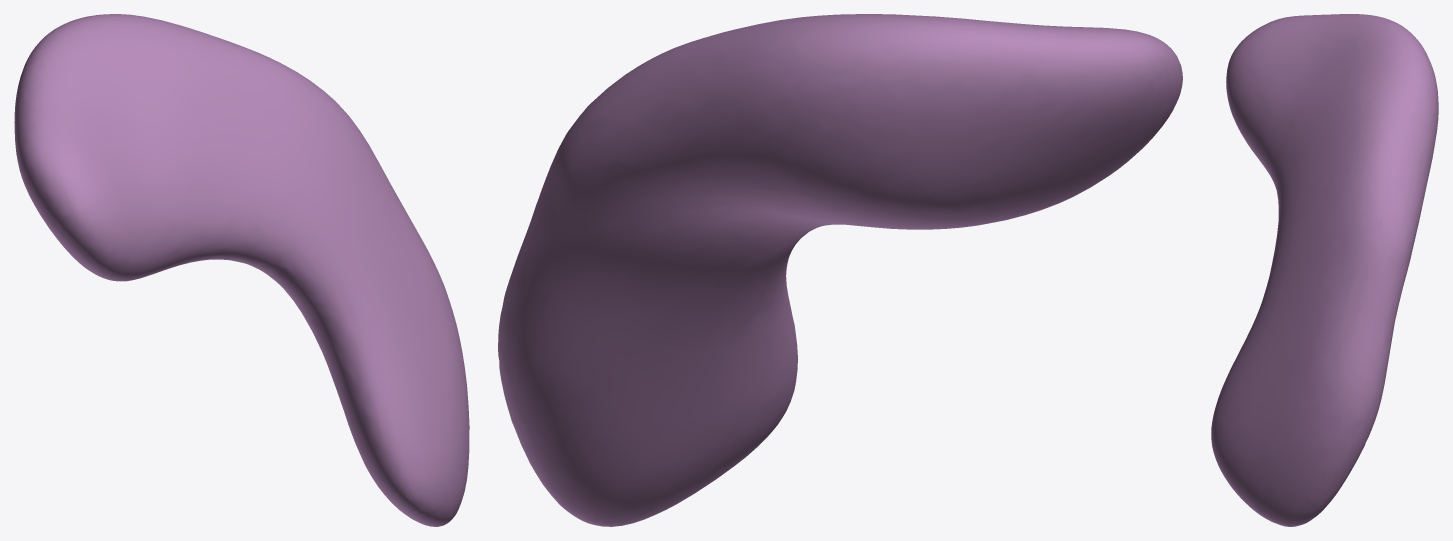
The picture shows the model from 3 angles, left to right: view 1: azimuth 30°, elevation 25°; view 2: azimuth 150°, elevation 25°; view 3: azimuth 270°, elevation 25°; orthographic projection. The views are drawn at different scales.
Visible parts, largest first — view 1: 左侧薄小叶; view 2: 左侧薄小叶; view 3: 左侧薄小叶.
Boxes of the visible parts, box(x1,y1,x2,y2) form: 左侧薄小叶: box(14, 14, 469, 526); 左侧薄小叶: box(498, 14, 1182, 526); 左侧薄小叶: box(1211, 14, 1438, 526).
Bounding box in the file's own units: 0.0513 × 0.0539 × 0.0287.
